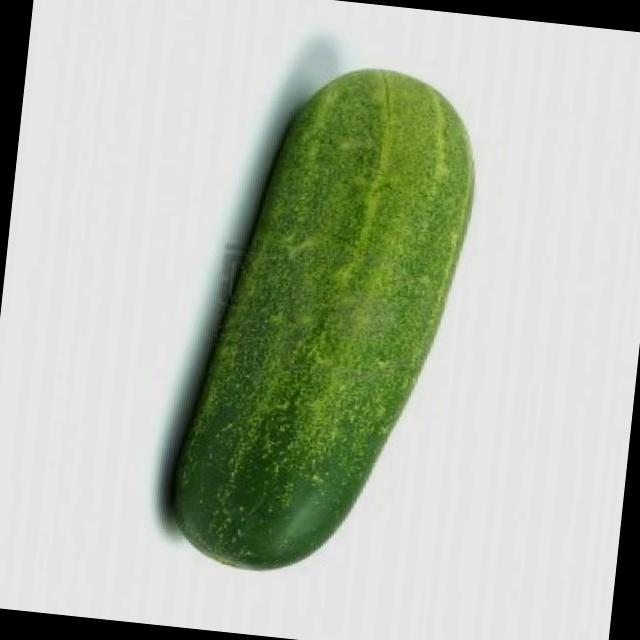Cucumber: (158, 43, 498, 600)
